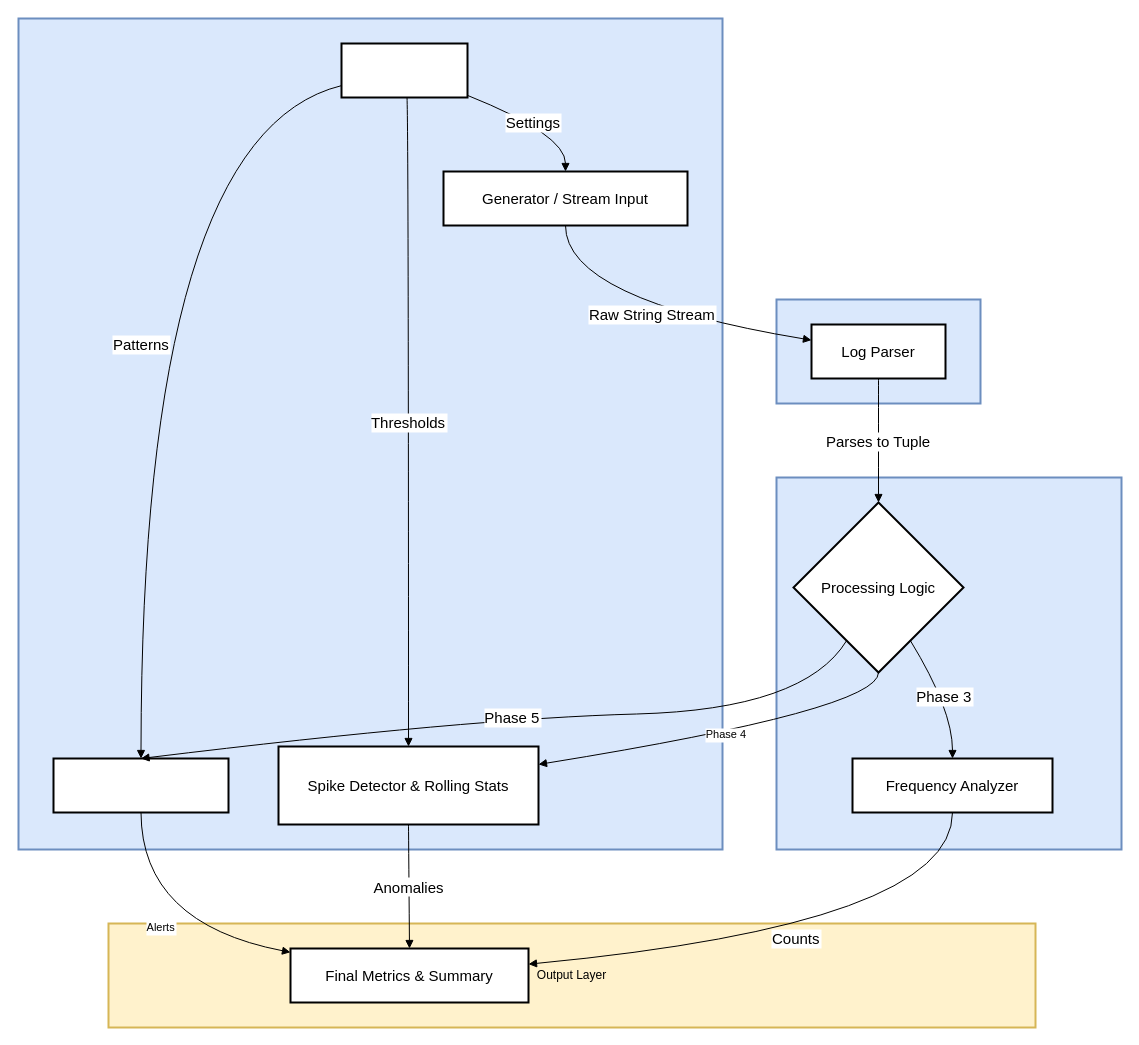
This 1139x1045 diagram has some shape labels left out. Each missing label, with the box of its shape:
config.py: (340, 42, 468, 98)
Configuration: (17, 17, 723, 850)
Core Engine: (775, 476, 1122, 850)
Pattern Matcher: (52, 757, 229, 813)
